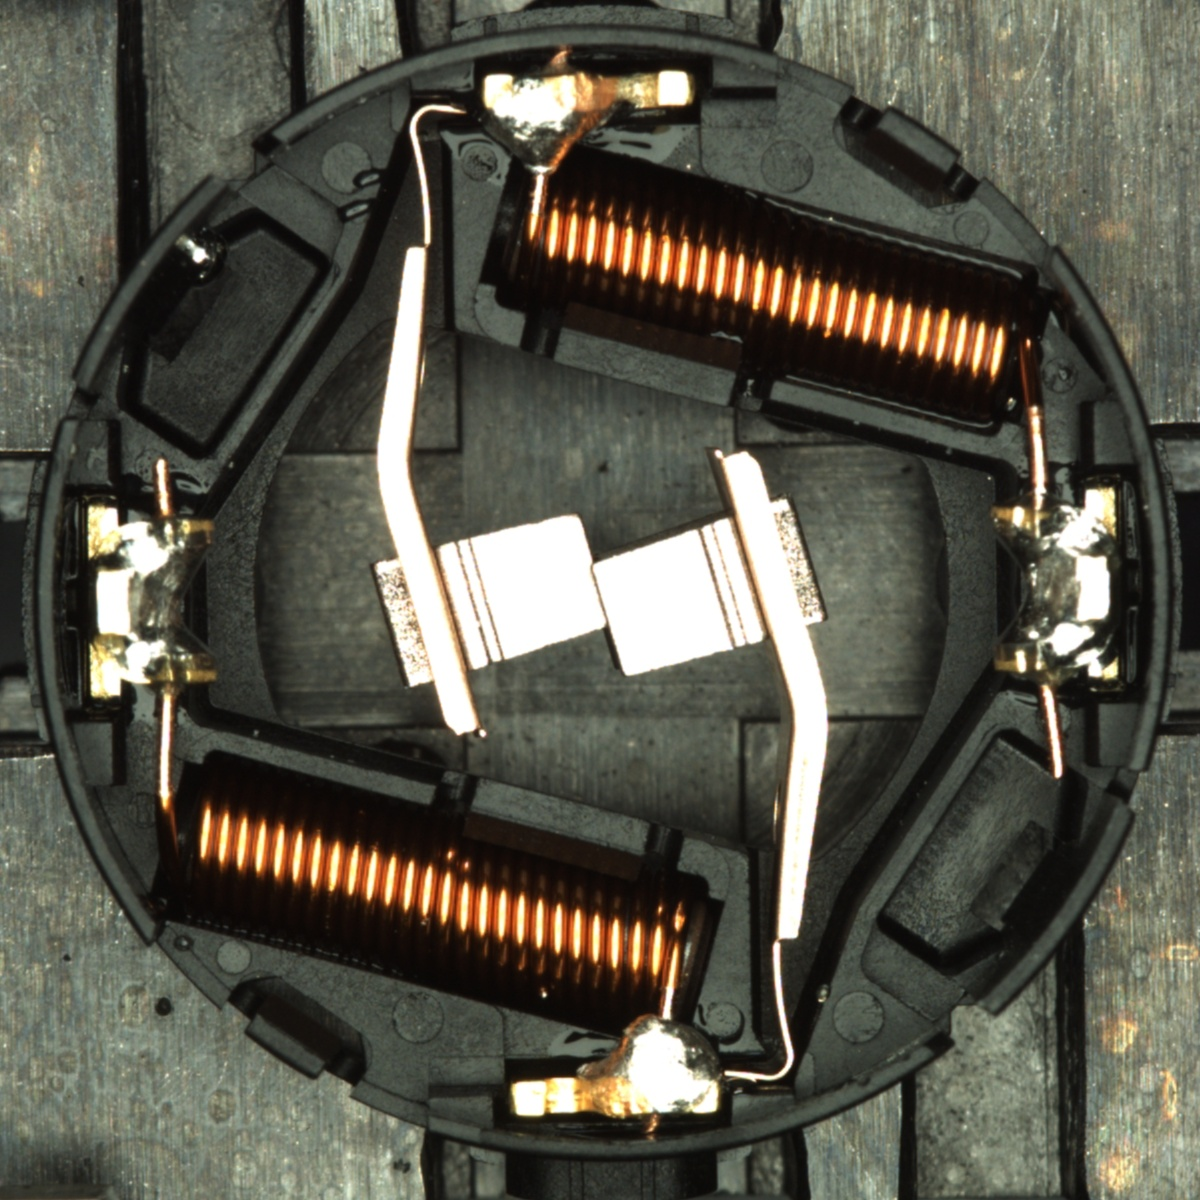1: (252, 32, 481, 257), (710, 930, 939, 1154)
2: (710, 32, 939, 257), (252, 930, 481, 1154)
3: (939, 706, 1169, 930)
4: (252, 257, 481, 481), (710, 706, 939, 930)
5: (481, 145, 710, 369), (481, 818, 710, 1042)
6: (710, 257, 939, 481), (252, 706, 481, 930)
7: (939, 257, 1169, 481), (22, 706, 252, 930)
cacbon: (392, 500, 799, 687)
chau_dien: (80, 500, 221, 701), (982, 487, 1124, 685)
hat_chi: (175, 233, 227, 286)
tay_choi: (507, 1011, 723, 1119), (481, 67, 695, 173)
thanh_de: (953, 784, 1142, 1033)
vun_chi: (174, 232, 228, 288)
